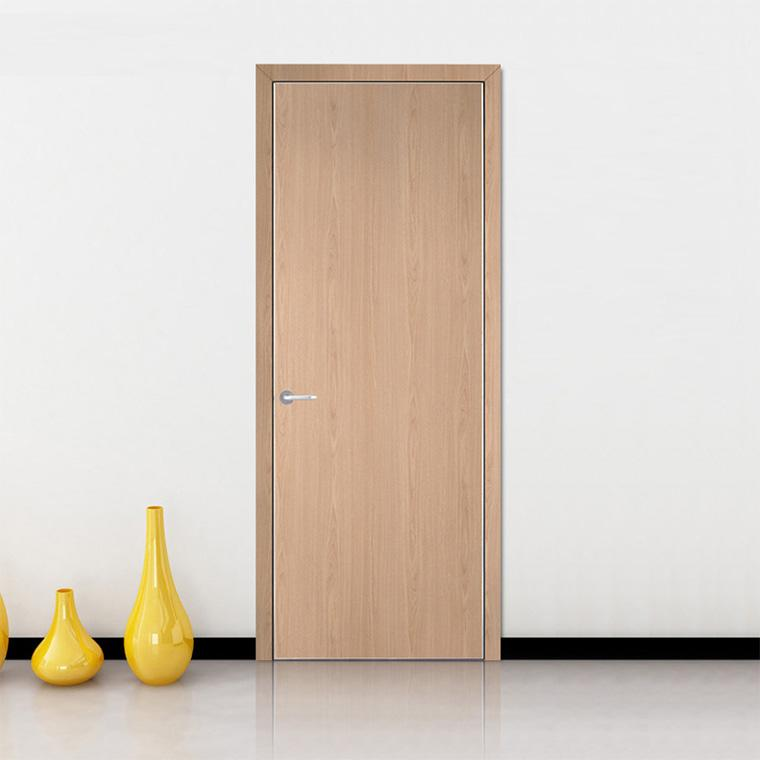door: (276, 82, 489, 650)
